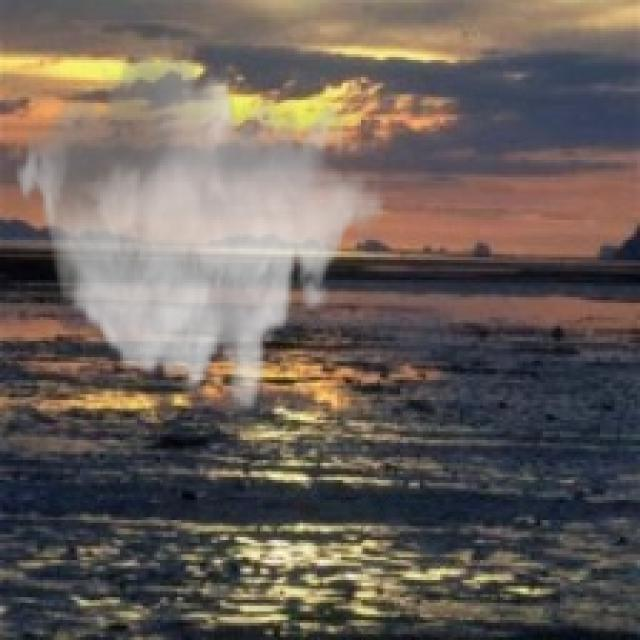Smoke: (11, 31, 386, 420)
